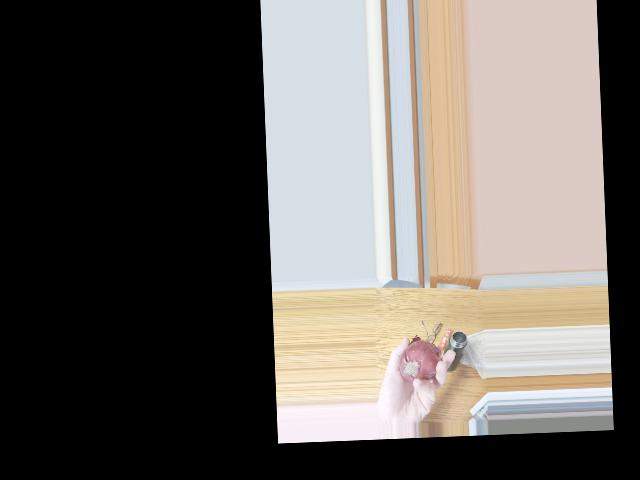onion: (397, 344, 440, 384)
